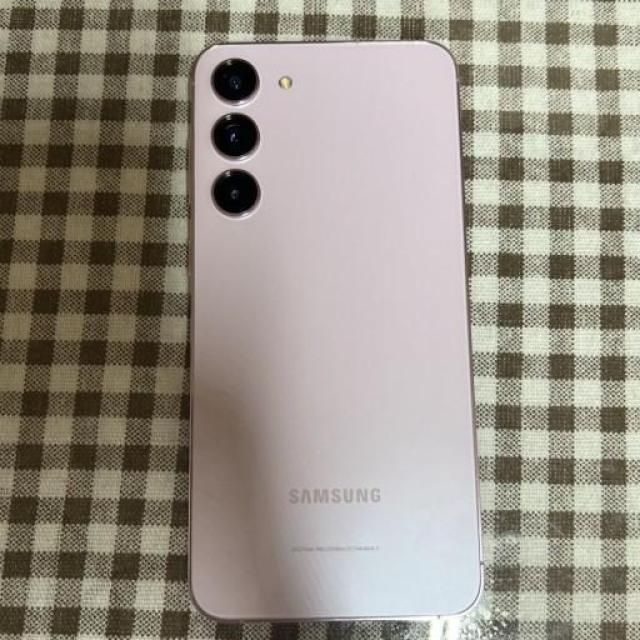cellphone: (185, 38, 483, 628)
